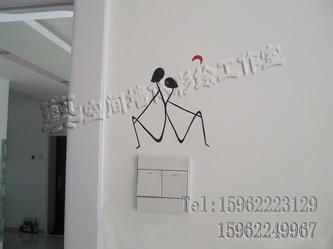switch: (138, 169, 163, 197), (163, 169, 186, 199)
